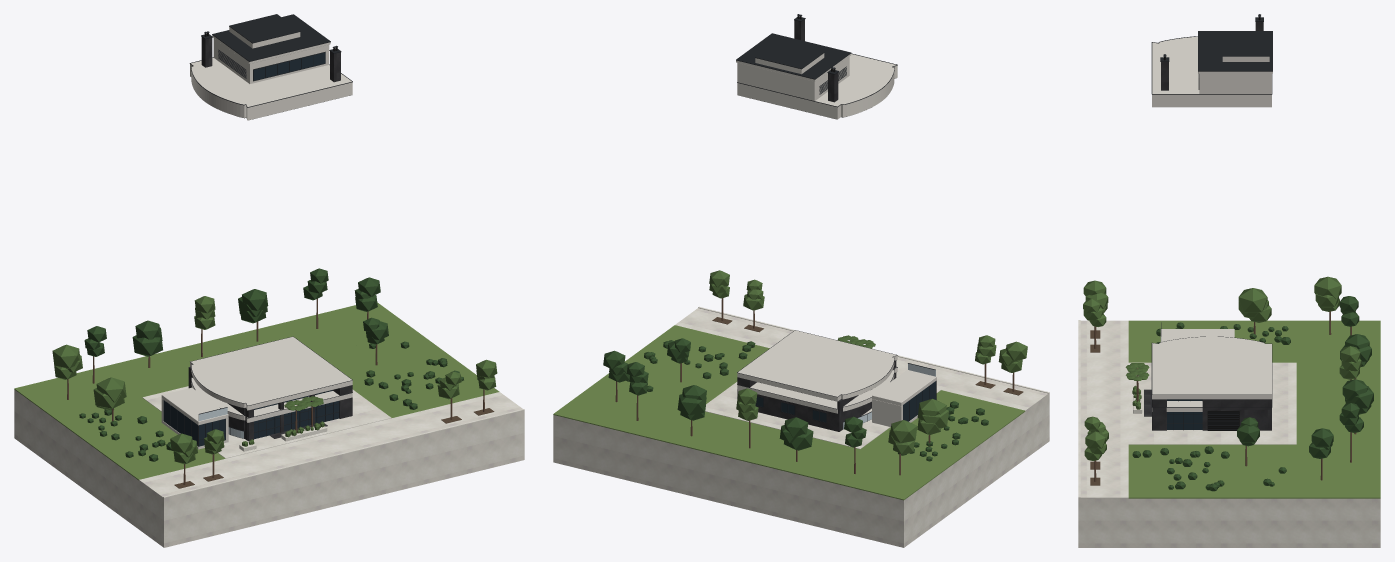
File: unique.glb
3 views of the same model, side by side, from view 1: azimuth 30°, elevation 25°; view 2: azimuth 150°, elevation 25°; view 3: azimuth 270°, elevation 25° (orthographic). The views are drawn at different scales.
Parts seen in each view (by area): view 1: lote_concreto_claro, lote_grama, terreo_unique_pastilha, lote_piso_pedra, coroamento_unique_pastilha, lote_verde_escuro, lote_verde, coroamento_unique_esquadria, terreo_piso_pedra, pav_vidros_unique_vidro, terreo_unique_grafite, terreo_unique_vidro (+6 smaller); view 2: lote_concreto_claro, lote_grama, terreo_unique_pastilha, coroamento_unique_pastilha, lote_verde_escuro, lote_piso_pedra, lote_verde, coroamento_unique_esquadria, terreo_piso_pedra, pav_testeira_unique_pastilha, pav_testeira_unique_grafite, terreo_unique_grafite (+1 smaller); view 3: lote_grama, lote_concreto_claro, terreo_unique_pastilha, lote_piso_pedra, coroamento_unique_pastilha, lote_verde_escuro, terreo_piso_pedra, lote_verde, coroamento_unique_esquadria, terreo_unique_grafite, terreo_unique_esquadria, terreo_preto (+4 smaller).
Part boxes in pixels (box(x1,y1,x2,y2)): lote_concreto_claro: box(14, 389, 524, 547); lote_grama: box(14, 302, 499, 480); terreo_unique_pastilha: box(161, 337, 352, 449); lote_piso_pedra: box(139, 392, 522, 498); coroamento_unique_pastilha: box(190, 27, 352, 120); lote_verde_escuro: box(79, 268, 463, 461); lote_verde: box(52, 296, 497, 464); coroamento_unique_esquadria: box(189, 14, 352, 119); terreo_piso_pedra: box(142, 386, 391, 458); pav_vidros_unique_vidro: box(254, 401, 339, 439); terreo_unique_grafite: box(188, 366, 352, 441); terreo_unique_vidro: box(163, 390, 332, 446); lote_concreto_claro: box(553, 306, 1049, 547); lote_grama: box(553, 325, 1025, 500); terreo_unique_pastilha: box(737, 330, 936, 426); coroamento_unique_pastilha: box(736, 53, 897, 119); lote_verde_escuro: box(603, 338, 988, 461); lote_piso_pedra: box(675, 308, 1048, 411); lote_verde: box(709, 270, 1027, 454); coroamento_unique_esquadria: box(736, 14, 897, 118); terreo_piso_pedra: box(705, 382, 940, 449); pav_testeira_unique_pastilha: box(737, 367, 897, 413); pav_testeira_unique_grafite: box(755, 372, 895, 431); terreo_unique_grafite: box(737, 360, 896, 431); lote_grama: box(1128, 320, 1380, 498); lote_concreto_claro: box(1078, 320, 1380, 547); terreo_unique_pastilha: box(1152, 329, 1271, 399); lote_piso_pedra: box(1080, 320, 1128, 498); coroamento_unique_pastilha: box(1152, 36, 1272, 107); lote_verde_escuro: box(1132, 296, 1373, 491); terreo_piso_pedra: box(1128, 362, 1296, 444); lote_verde: box(1083, 276, 1361, 460); coroamento_unique_esquadria: box(1151, 14, 1272, 94); terreo_unique_grafite: box(1144, 389, 1271, 430); terreo_unique_esquadria: box(1151, 322, 1272, 429); terreo_preto: box(1207, 411, 1239, 430).
Bounding box in the file's own units: 50 × 55.4 × 36.
Materials: 22 (5 with a texture image).
